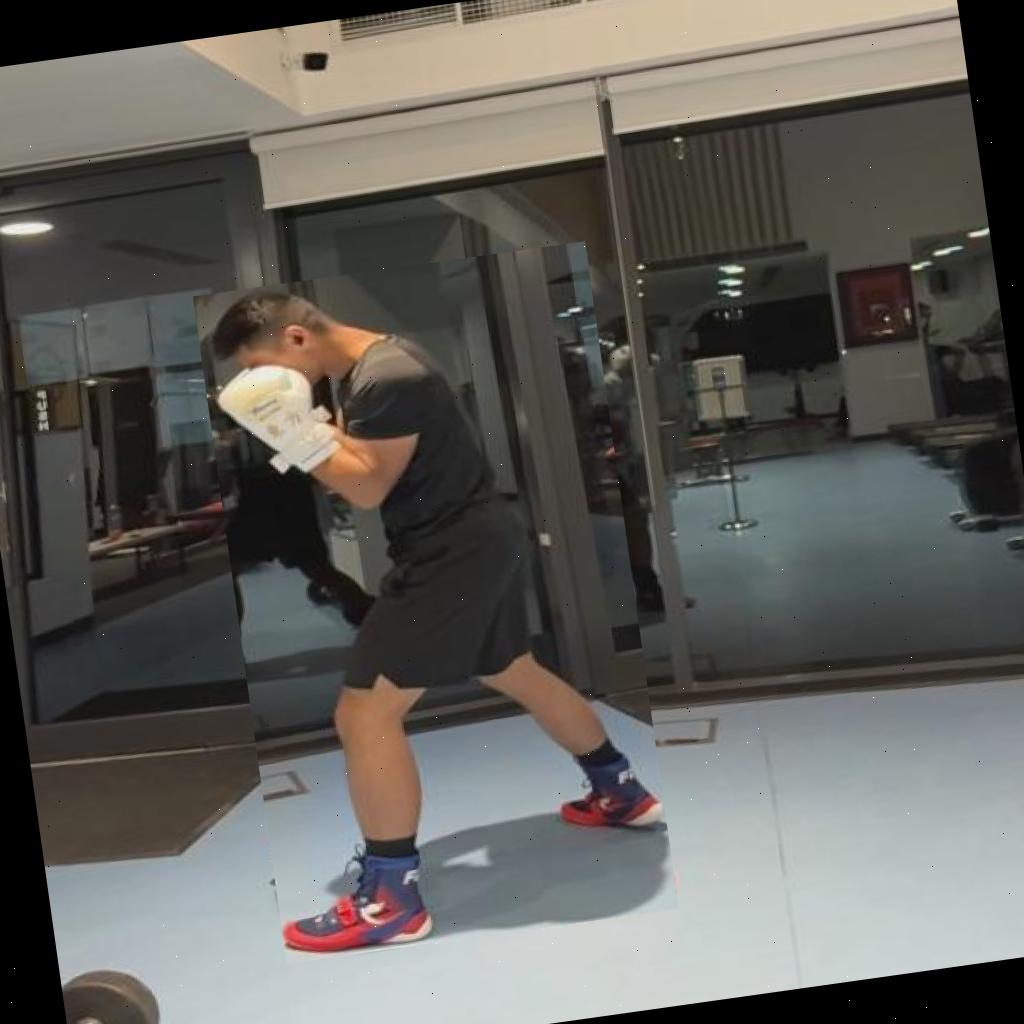no punch: (193, 242, 679, 964)
